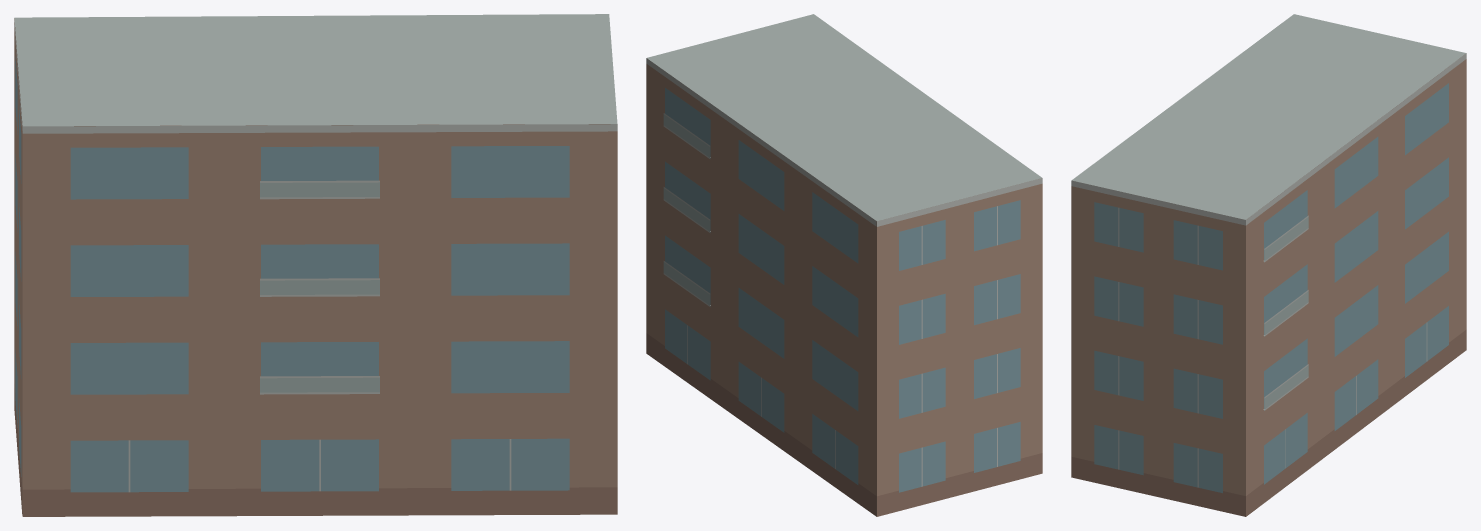
Rendered from survey-upis-32656183.glb.
3 views of the same model, side by side, from view 1: azimuth 30°, elevation 25°; view 2: azimuth 150°, elevation 25°; view 3: azimuth 270°, elevation 25° (orthographic). The views are drawn at different scales.
Parts seen in each view (by area): view 1: survey-upis-32656183.tmp; view 2: survey-upis-32656183.tmp; view 3: survey-upis-32656183.tmp.
Part boxes in pixels (x1,y1,x2,y2): survey-upis-32656183.tmp: (14, 14, 617, 516); survey-upis-32656183.tmp: (646, 14, 1042, 516); survey-upis-32656183.tmp: (1071, 14, 1466, 516).
Bounding box in the file's own units: 19.05 × 12.8 × 15.45.
